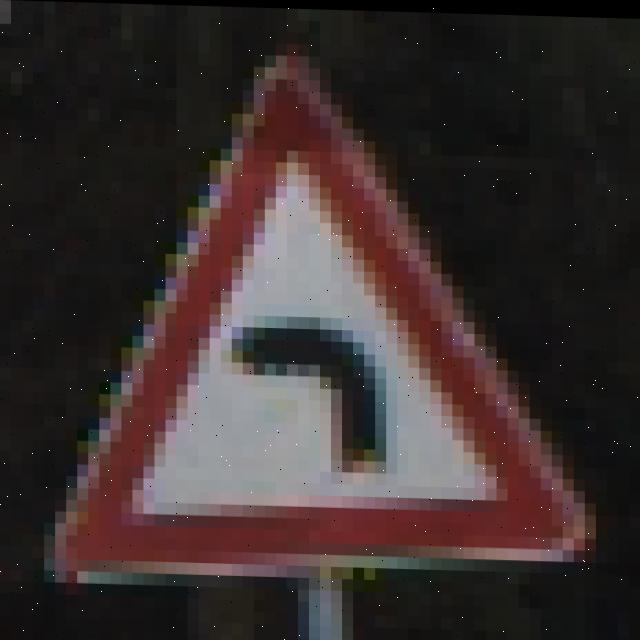left_turn: (80, 107, 597, 589)
